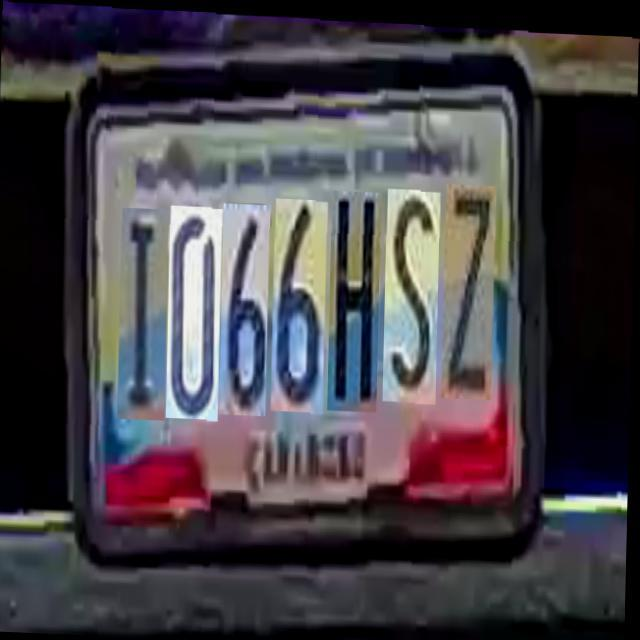0: (166, 202, 222, 416)
6: (272, 192, 328, 406), (220, 198, 270, 411)
H: (328, 183, 382, 404)
I: (118, 205, 169, 418)
S: (383, 180, 440, 394)
Z: (442, 173, 497, 390)
